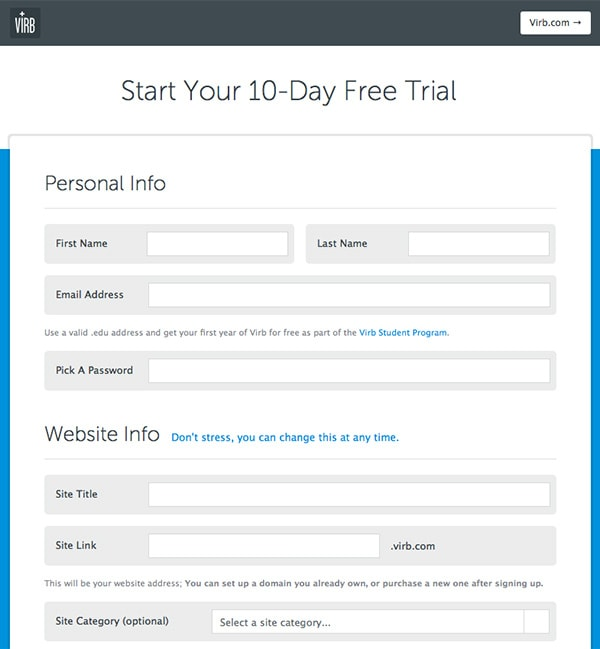_form_: (32, 219, 557, 640)
field: (144, 357, 550, 384), (145, 481, 550, 508), (144, 282, 551, 307), (209, 607, 552, 634), (145, 534, 381, 558), (144, 229, 289, 256), (406, 230, 550, 256)
field_with_label: (55, 605, 554, 636), (57, 355, 551, 386), (56, 479, 552, 509), (57, 281, 554, 308), (54, 532, 383, 559), (54, 227, 291, 258), (316, 228, 551, 257)
